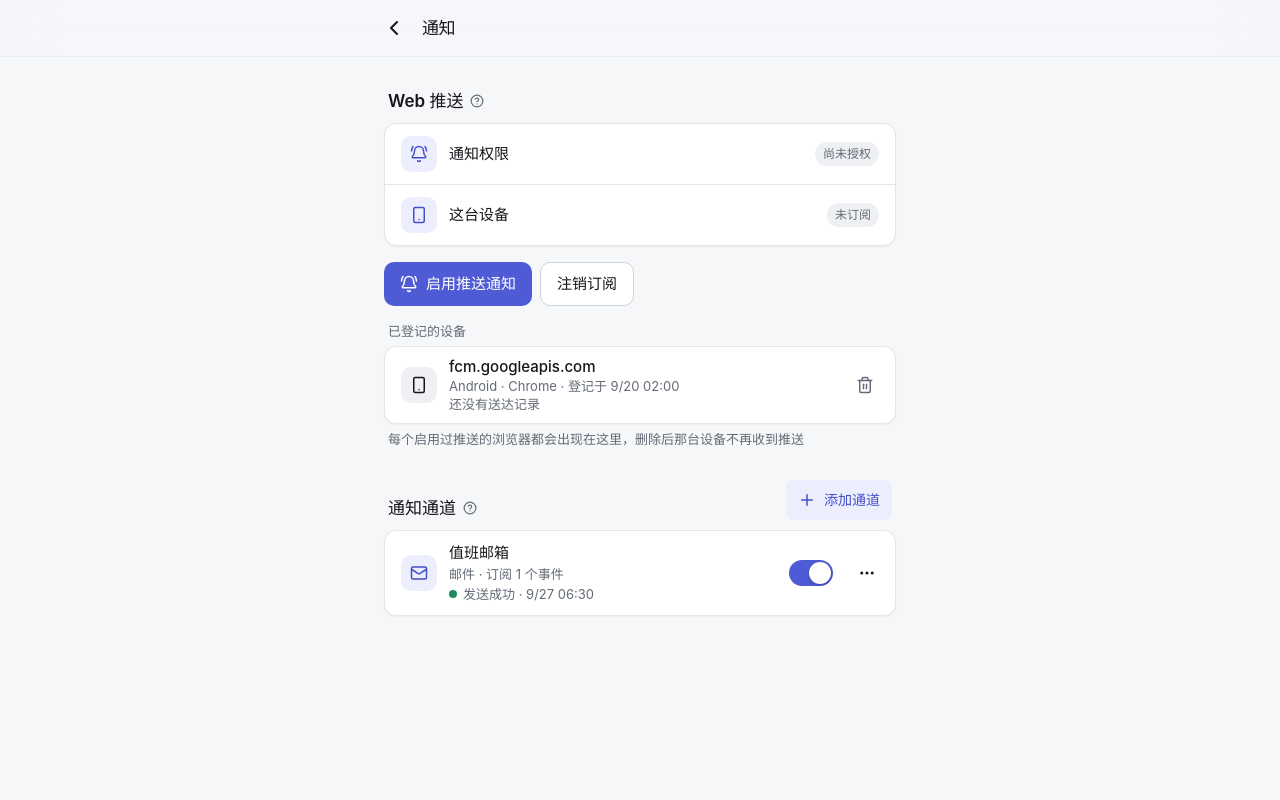
Scenario: Web Push › lists registered devices and deletes one only after confirmation (P8)
This screenshot has width=1280, height=800.
Check: the text "fcm.googleapis.com" is shown, box [449,357,596,376]
Check: the text "Android · Chrome · 登记于 9/20 02:00" is shown, box [449,378,679,394]
Click the button named "删除推送订阅：fcm.googleapis.com" at (865, 385), box [843,363,887,407]
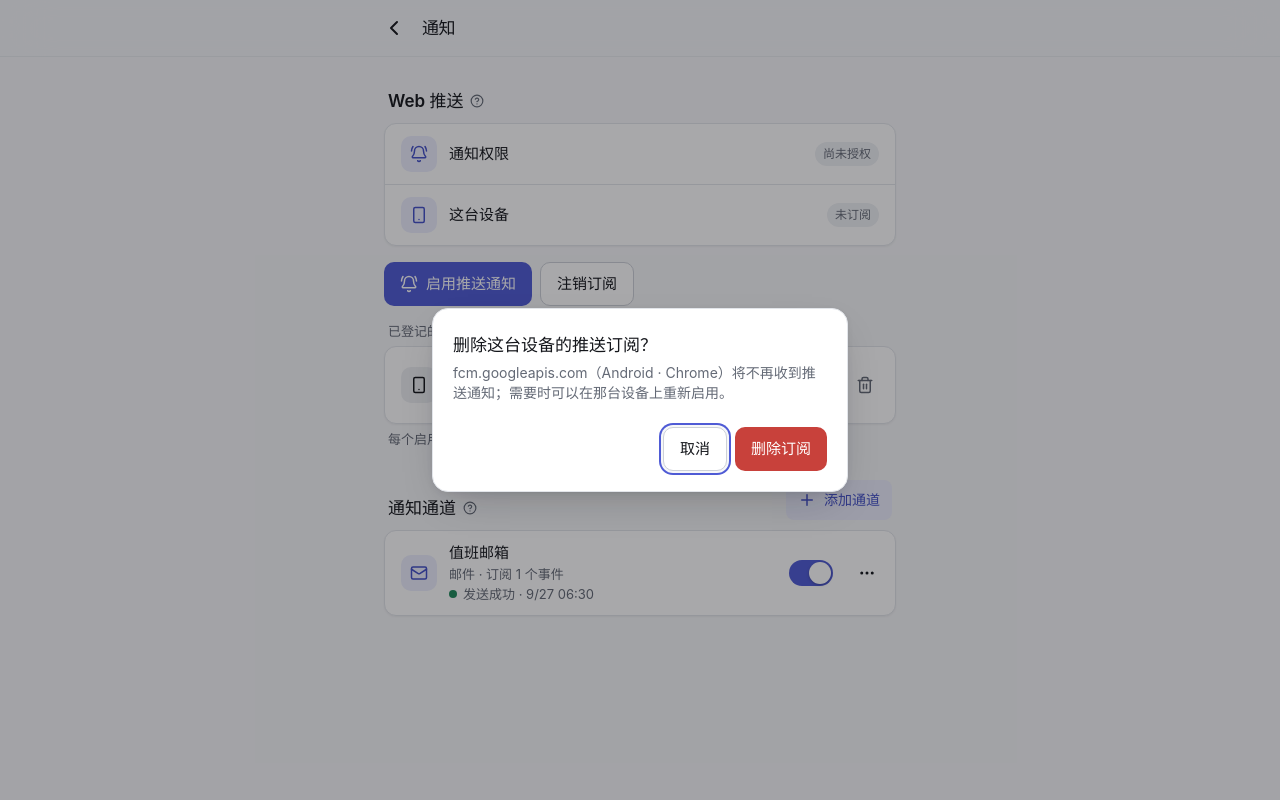
Click the button "删除订阅" at (781, 449), box [735,427,827,471]
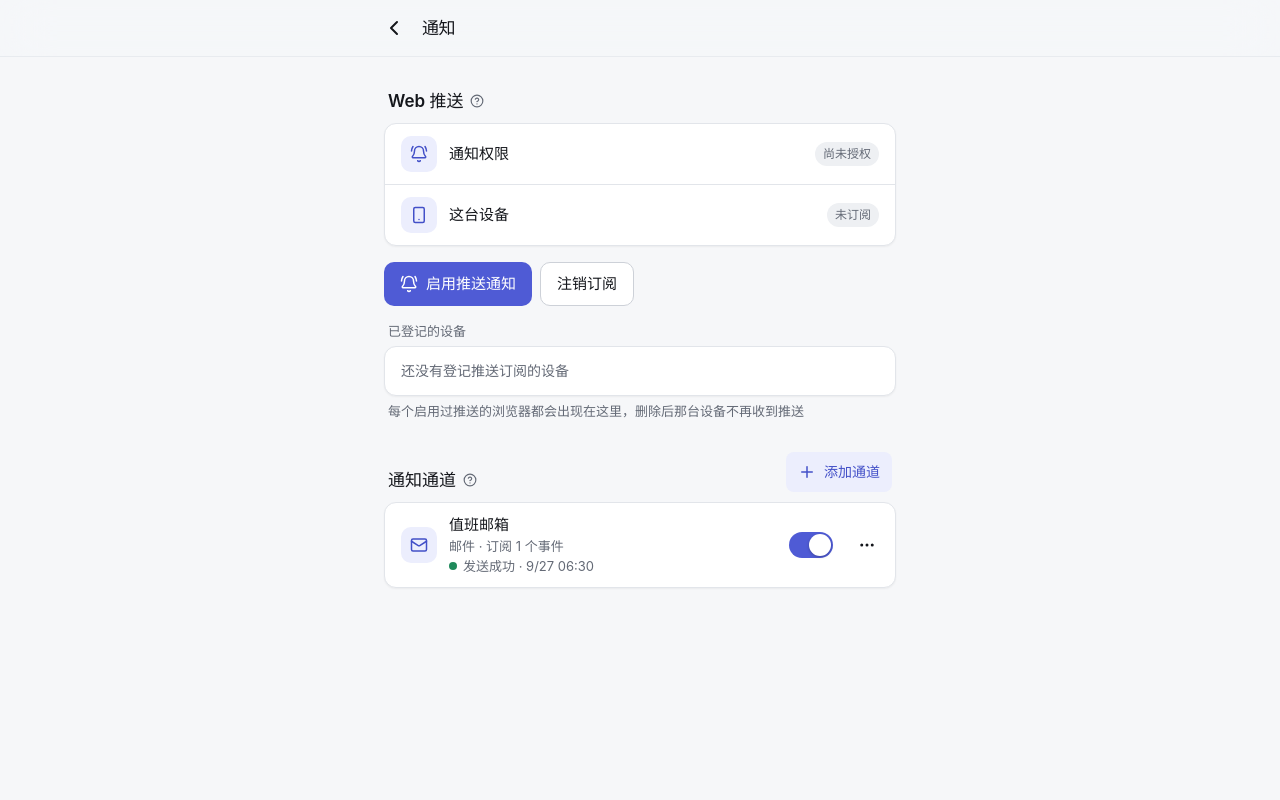
Check: the text "fcm.googleapis.com" is gone
